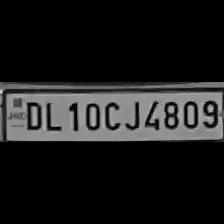0: (81, 99, 101, 131), (180, 97, 198, 129)
1: (61, 98, 80, 132)
4: (142, 96, 160, 132)
8: (159, 97, 179, 130)
9: (199, 96, 219, 130)
C: (101, 98, 121, 132)
D: (20, 98, 43, 132)
J: (122, 96, 142, 132)
L: (42, 97, 62, 132)
